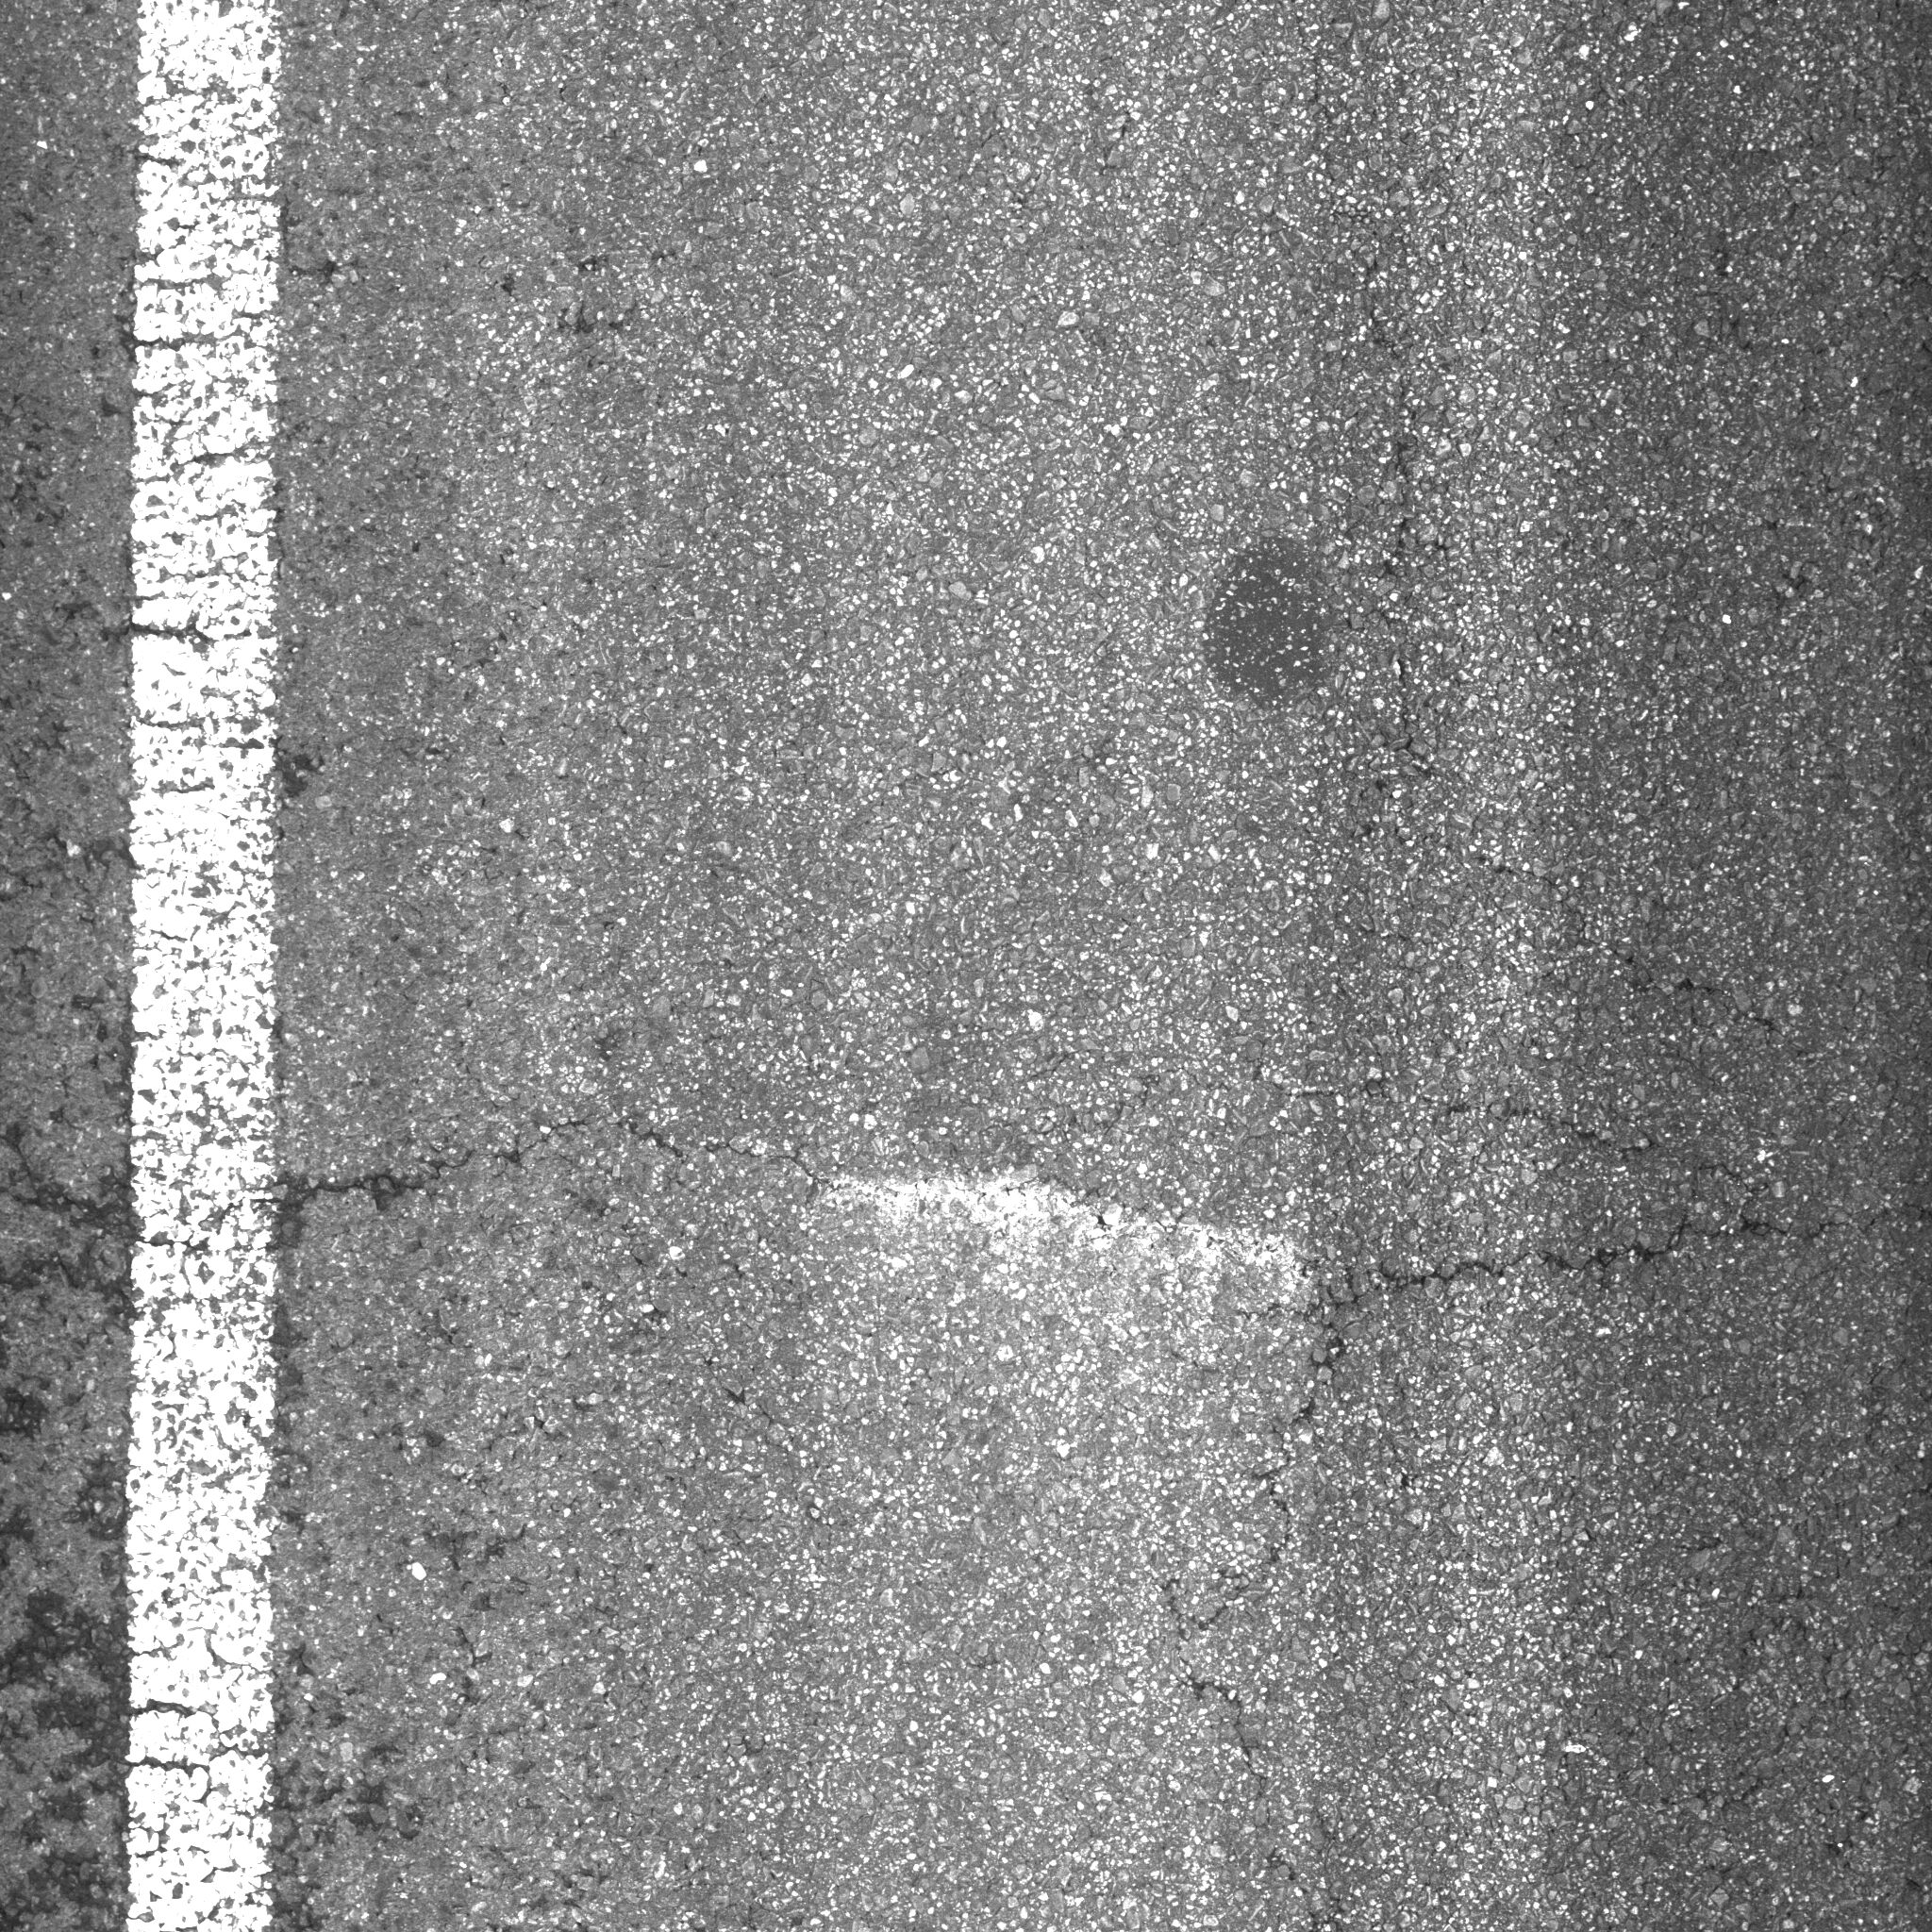transeverse: (1168, 1198, 1932, 1635), (4, 1097, 729, 1256), (1456, 858, 1854, 1079), (1320, 242, 1474, 814)
